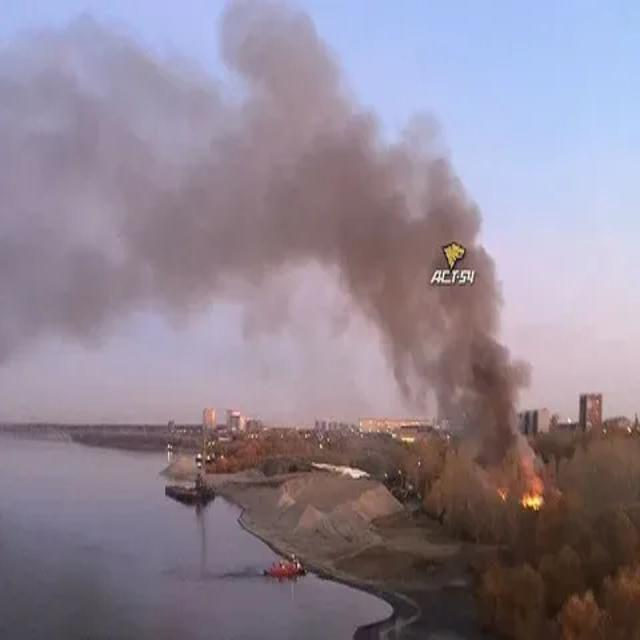smoke: (222, 3, 549, 504)
